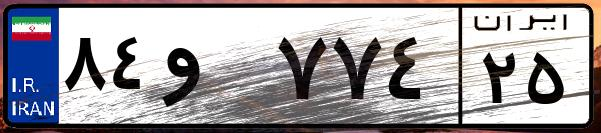2: (475, 38, 525, 113)
4: (385, 28, 445, 110), (110, 28, 158, 98)
5: (525, 38, 570, 115)
7: (270, 28, 330, 110), (330, 28, 385, 110)
8: (57, 26, 110, 100)
و: (158, 20, 270, 120)
